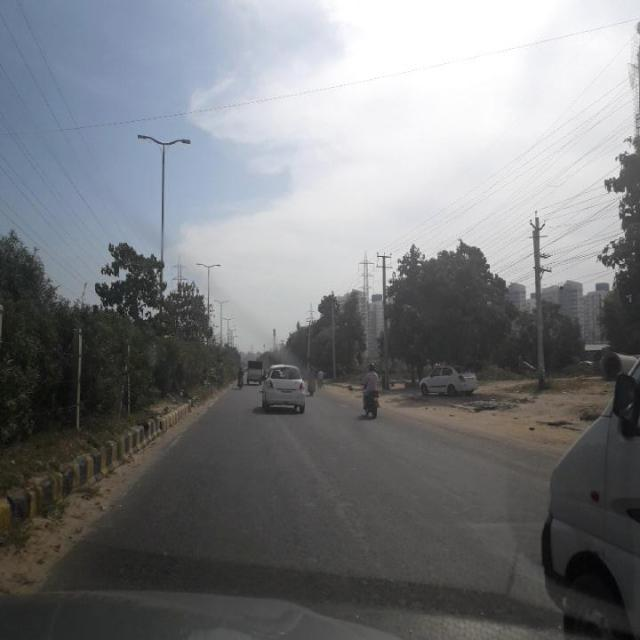crack: (62, 436, 510, 584)
